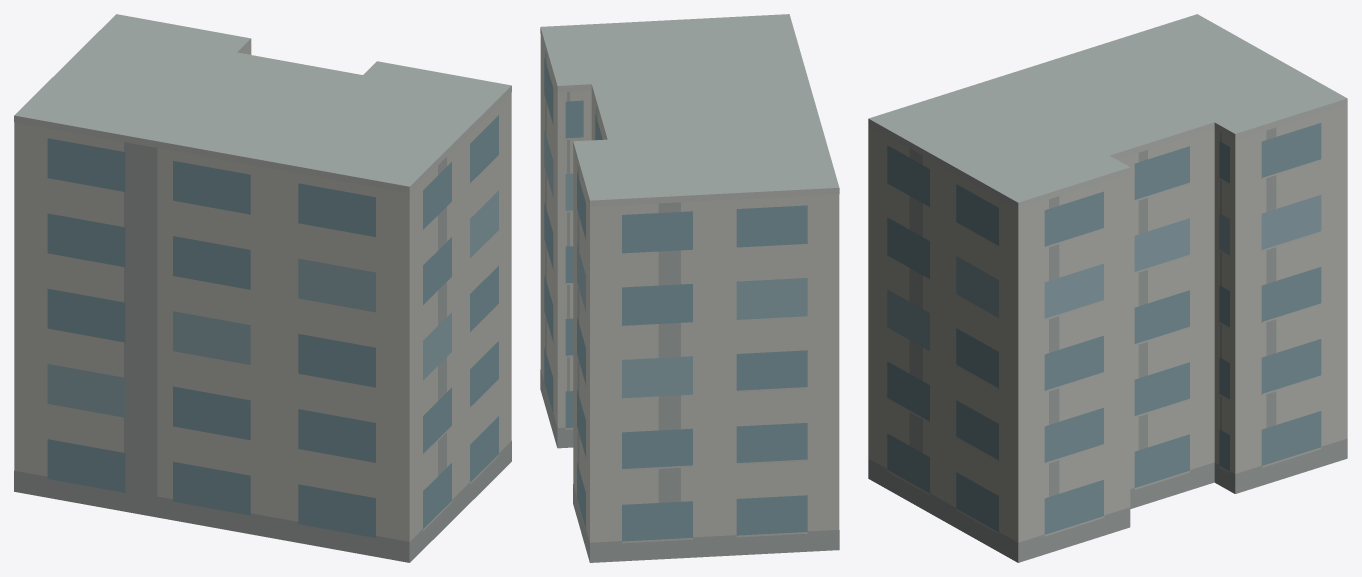
The model's file is residential-e57bfb0c-e28d-4ff6-a9b8-11cc871e4d54.glb.
3 views of the same model, side by side, from view 1: azimuth 30°, elevation 25°; view 2: azimuth 150°, elevation 25°; view 3: azimuth 270°, elevation 25° (orthographic). The views are drawn at different scales.
Visible parts, largest first — view 1: residential-e57bfb0c-e28d-4ff6-a9b8-11cc871e4d54.tmp; view 2: residential-e57bfb0c-e28d-4ff6-a9b8-11cc871e4d54.tmp; view 3: residential-e57bfb0c-e28d-4ff6-a9b8-11cc871e4d54.tmp.
Part boxes in pixels (<box>): residential-e57bfb0c-e28d-4ff6-a9b8-11cc871e4d54.tmp: <box>14,14,511,562</box>; residential-e57bfb0c-e28d-4ff6-a9b8-11cc871e4d54.tmp: <box>540,14,839,562</box>; residential-e57bfb0c-e28d-4ff6-a9b8-11cc871e4d54.tmp: <box>868,14,1347,562</box>.
Size of the model in its own units: 15.41 by 13.7 by 16.53.
